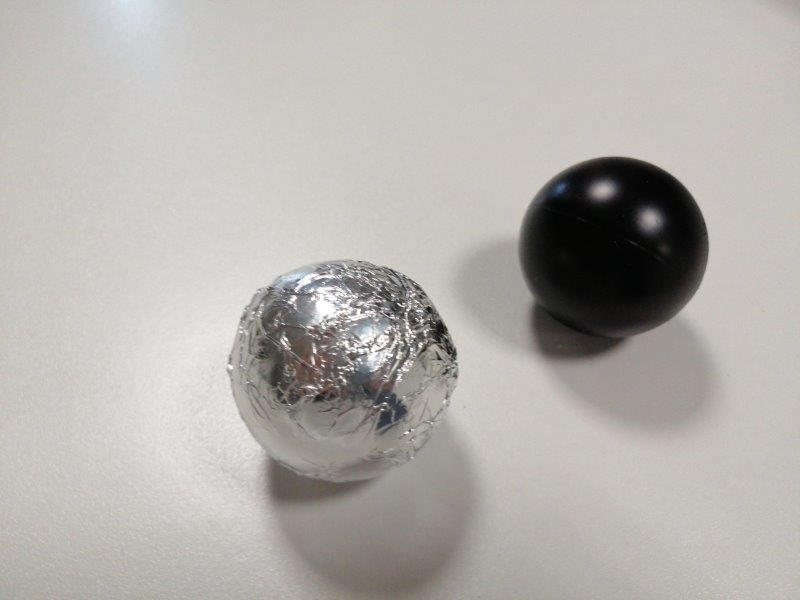bianca: (228, 259, 460, 483)
nera: (519, 156, 707, 341)
